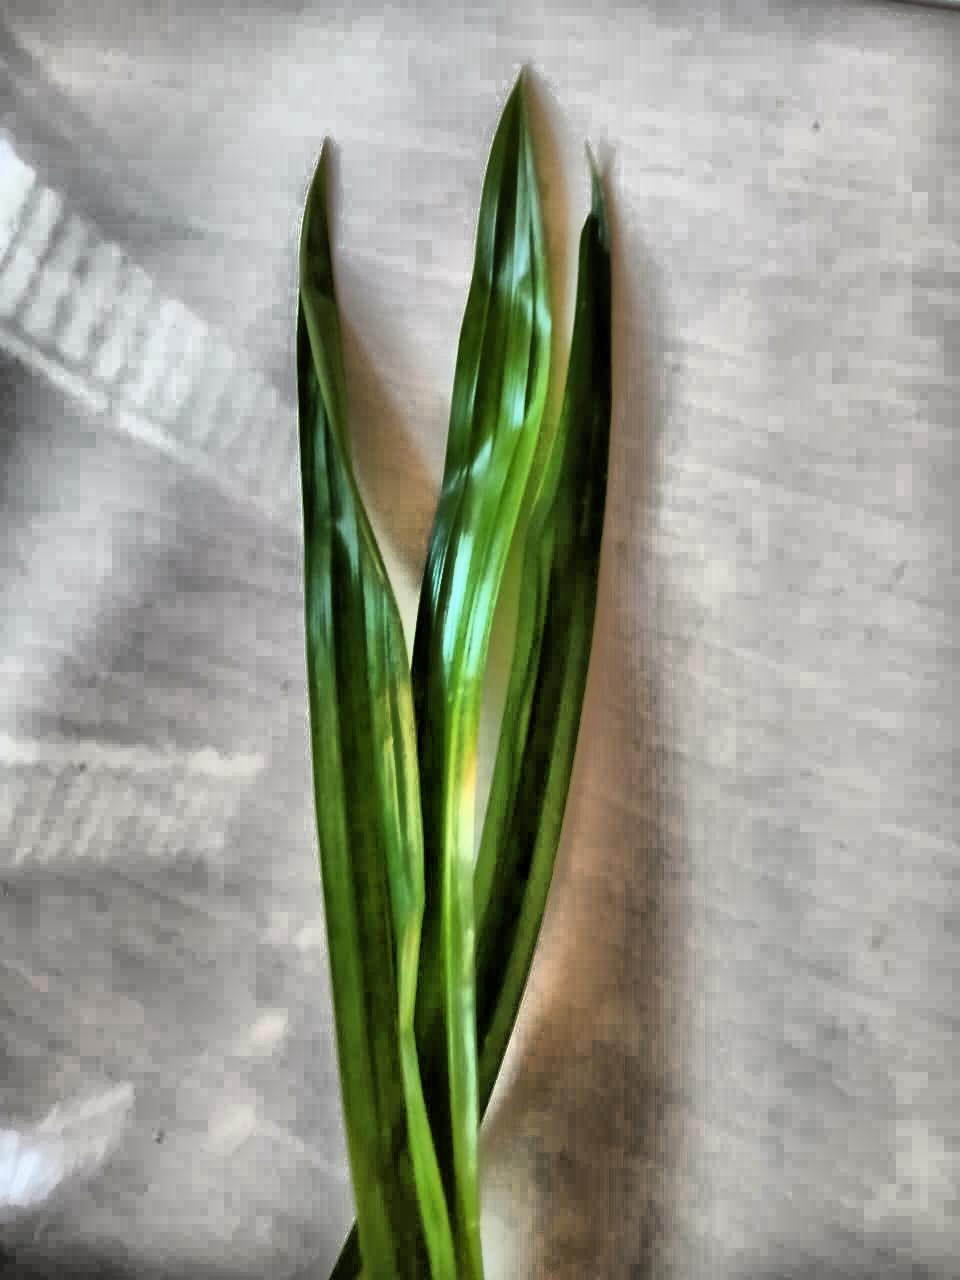daun pandan: (295, 77, 614, 1279)
